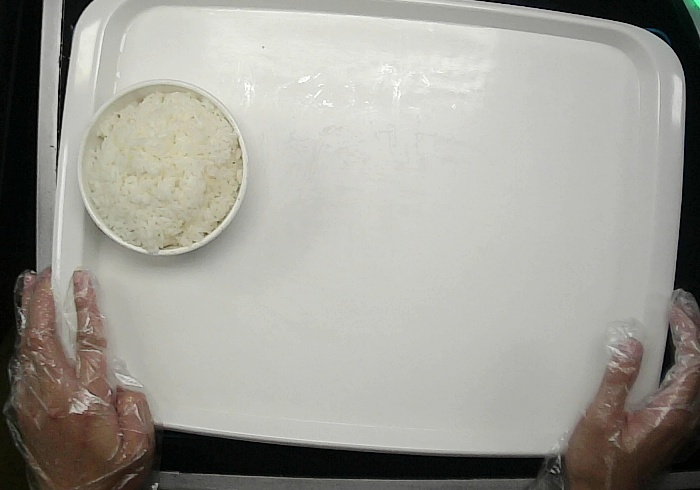HZYJPL-Fan_Wan: (76, 78, 248, 256)
